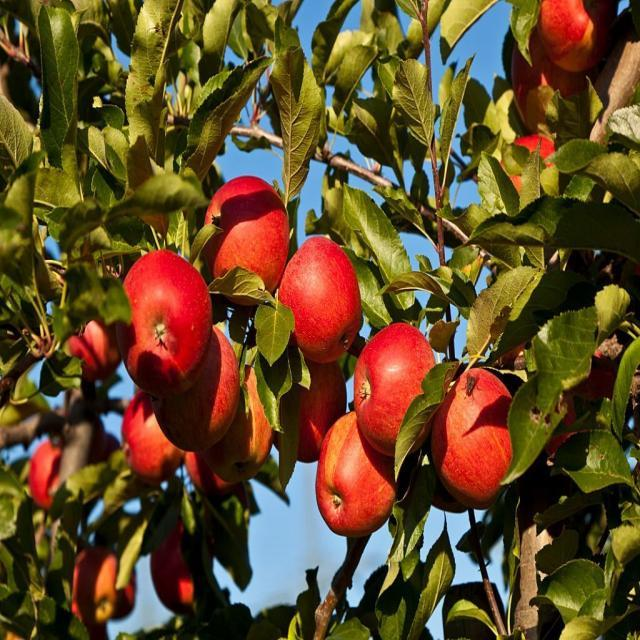Red Apple: (118, 245, 209, 394), (439, 364, 527, 499), (358, 321, 443, 454), (156, 318, 239, 446), (284, 238, 367, 361), (212, 177, 290, 300), (316, 410, 388, 535), (211, 367, 274, 483), (279, 355, 345, 465), (514, 37, 580, 135), (502, 131, 569, 224), (541, 1, 616, 78), (548, 374, 618, 451), (123, 391, 182, 478), (153, 533, 214, 599), (70, 312, 124, 385), (71, 548, 115, 621), (30, 443, 70, 501)
